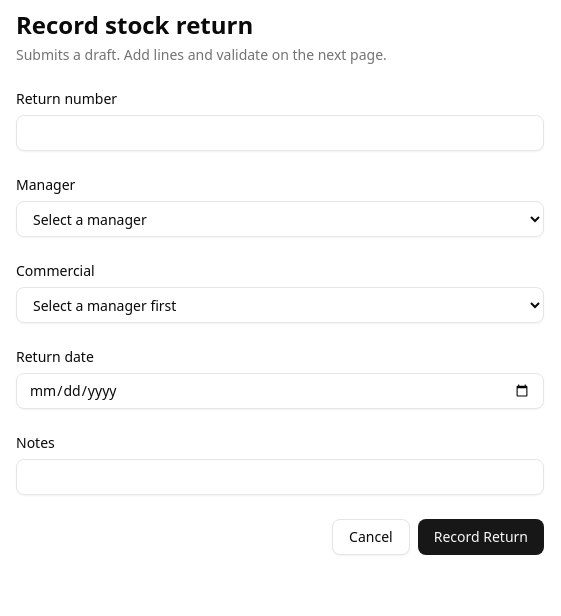
failure preserves entered values › shows a permission-specific message on a 403
Type "RET-900" into the field labelled "Return number" at (280, 133), box [16,115,544,151]
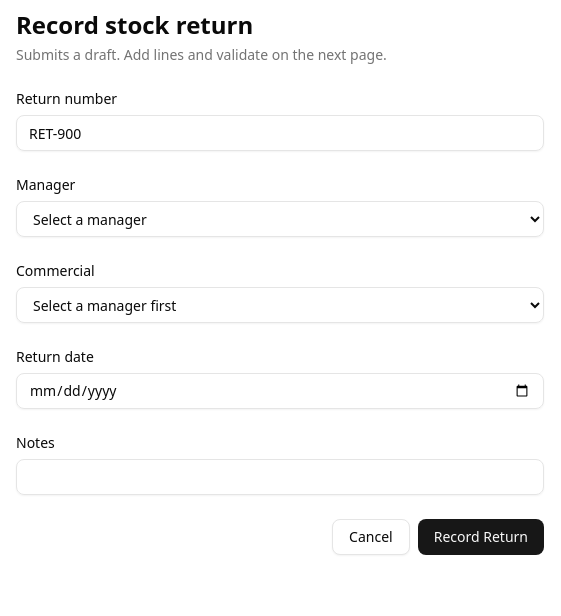
Select "Youssef Bennani" in the dropdown labelled "Manager" at (280, 219), box [16,201,544,237]
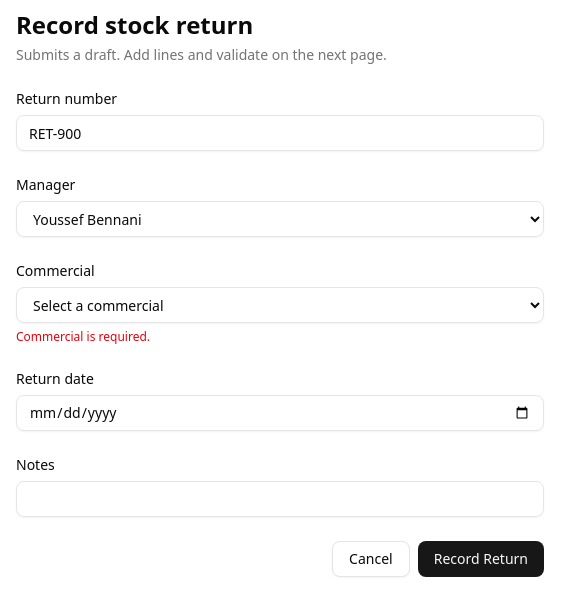
Select "Sara Alaoui" in the dropdown labelled "Commercial" at (280, 305), box [16,287,544,323]
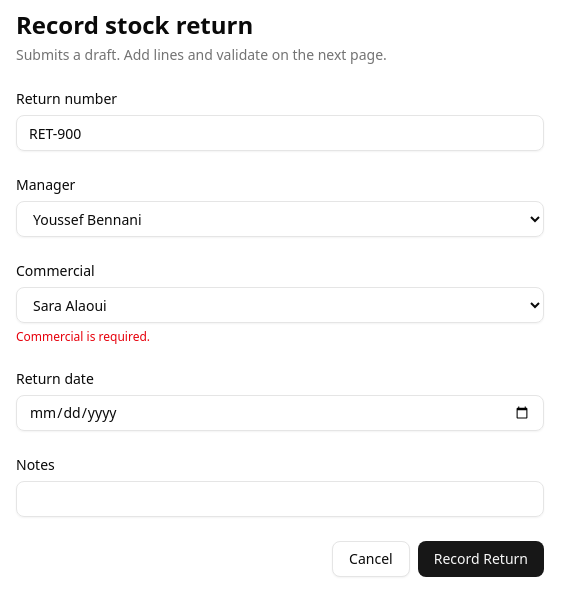
Click the button "Record Return" at (481, 559), box [418,541,544,577]
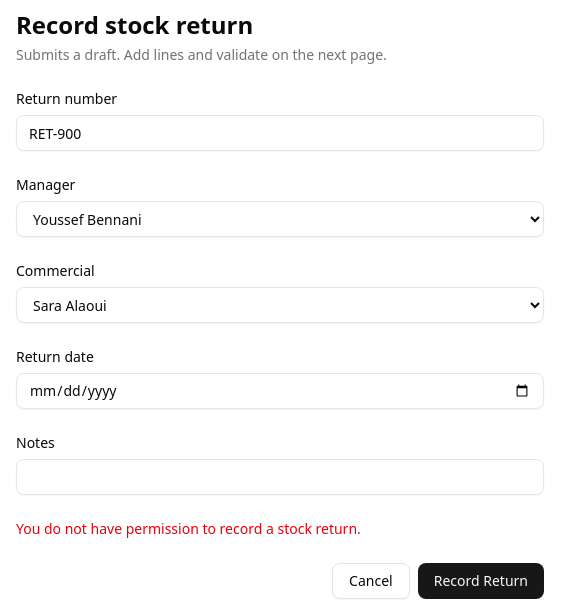
Result: the text "You do not have permission to record a stock return." is shown at [16,519,361,538]
